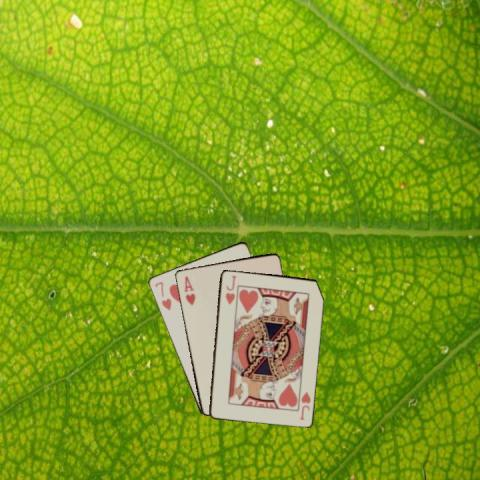7h: (151, 279, 173, 311)
Ah: (180, 272, 196, 306)
Jh: (222, 272, 237, 305), (297, 388, 312, 420)
